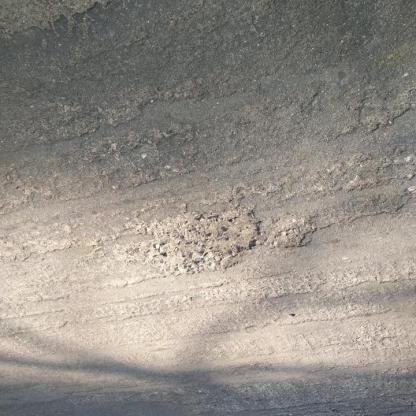pothole: (148, 212, 264, 273), (264, 215, 315, 252)
